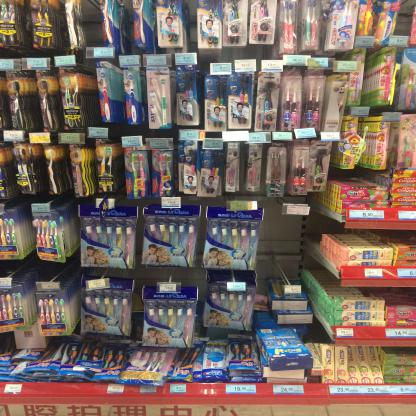Void: (262, 213, 307, 275), (79, 1, 100, 42), (385, 288, 411, 304), (386, 347, 415, 356)
